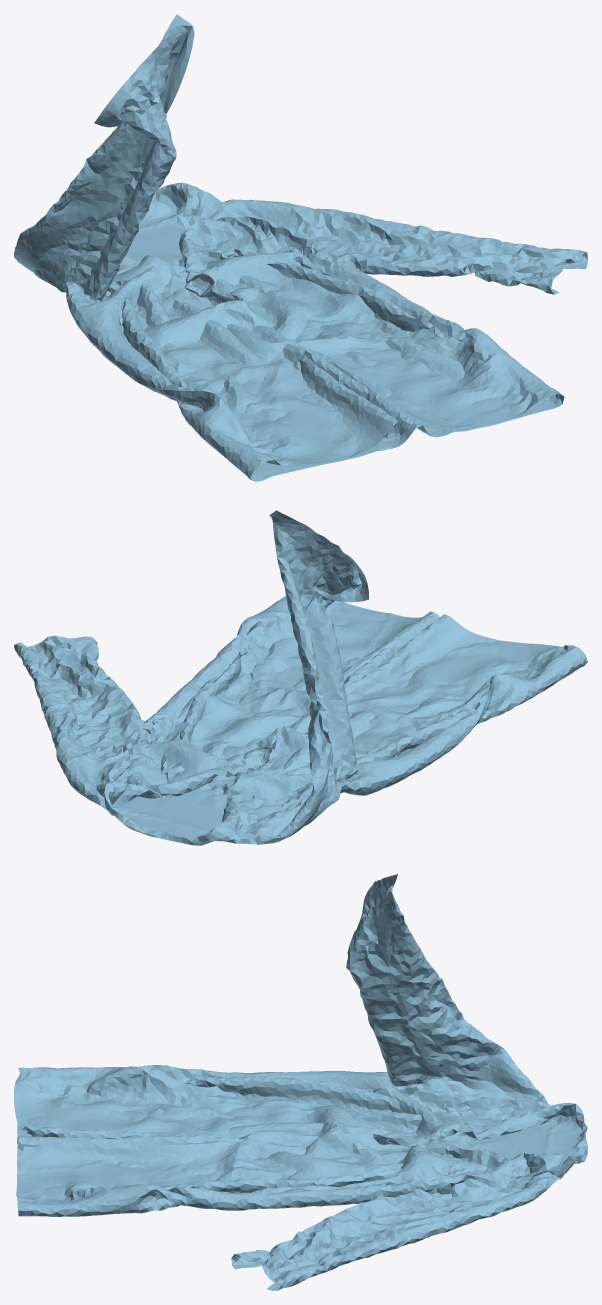
The model's file is frame_13.glb.
The picture shows the model from 3 angles, top to bottom: view 1: azimuth 30°, elevation 25°; view 2: azimuth 150°, elevation 25°; view 3: azimuth 270°, elevation 25°; orthographic projection. The views are drawn at different scales.
Visible parts, largest first — view 1: frame_13.obj; view 2: frame_13.obj; view 3: frame_13.obj.
Part boxes in pixels (x1=…): frame_13.obj: x1=14, y1=14, x2=587, y2=481; frame_13.obj: x1=14, y1=510, x2=587, y2=845; frame_13.obj: x1=14, y1=874, x2=587, y2=1290.
Size of the model in its own units: 1.49 by 0.856 by 1.68.
